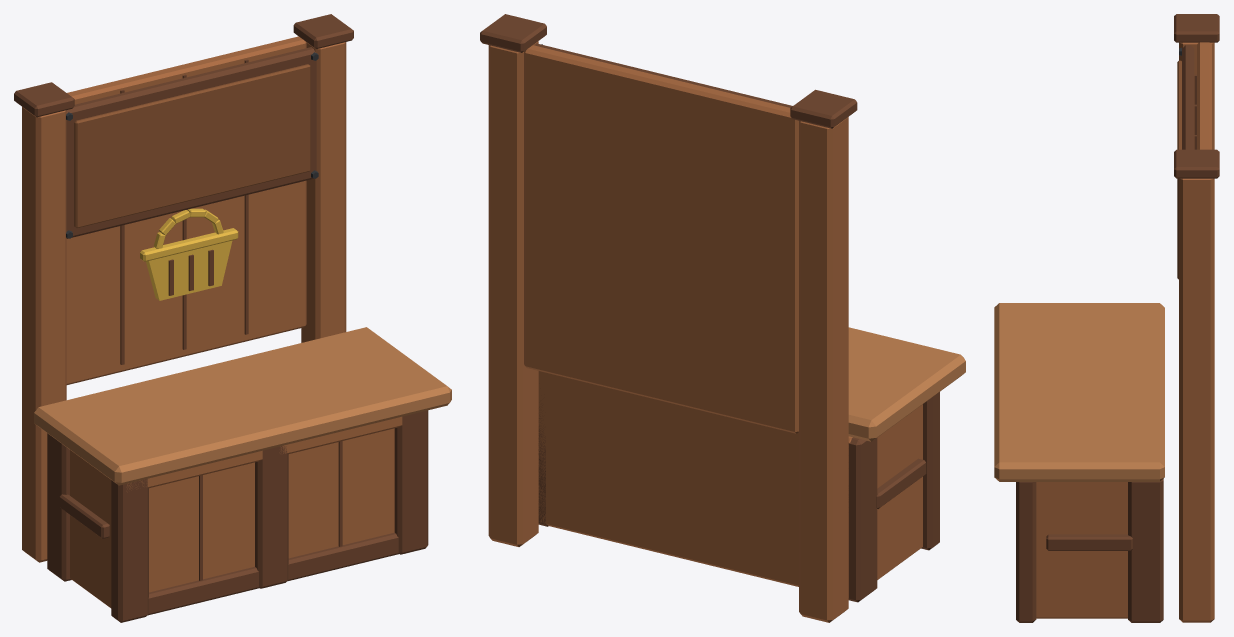
File: Lodge_RubbleSell.fbx
3 renders of one model, left to right at view 1: azimuth 30°, elevation 25°; view 2: azimuth 150°, elevation 25°; view 3: azimuth 270°, elevation 25°, orthographic. The views are drawn at different scales.
Visible parts, largest first — view 1: FnWood, Countertop, Posts, FnWoodDark, SignFace, SignFrame, Emblem, Seams, EmblemDark; view 2: FnWood, Posts, FnWoodDark, Countertop, SignFrame; view 3: Countertop, Posts, FnWood, FnWoodDark, SignFrame, SignFace.
Boxes of the visible parts, x1,y1,x2,y2 form: FnWood: [66, 36, 402, 608]; Countertop: [34, 327, 451, 485]; Posts: [22, 42, 346, 562]; FnWoodDark: [14, 14, 428, 622]; SignFace: [74, 64, 310, 227]; SignFrame: [66, 47, 316, 238]; Emblem: [140, 208, 238, 300]; Seams: [120, 59, 342, 580]; EmblemDark: [168, 249, 213, 295]; FnWood: [524, 45, 922, 597]; Posts: [488, 41, 848, 622]; FnWoodDark: [480, 14, 939, 602]; Countertop: [848, 327, 965, 441]; SignFrame: [534, 43, 792, 107]; Countertop: [994, 303, 1164, 481]; Posts: [1179, 42, 1214, 622]; FnWood: [1036, 42, 1211, 618]; FnWoodDark: [1016, 14, 1219, 622]; SignFrame: [1182, 45, 1194, 149]; SignFace: [1177, 60, 1181, 279].
Size of the model in its own units: 7.6 by 9.93 by 4.42.
